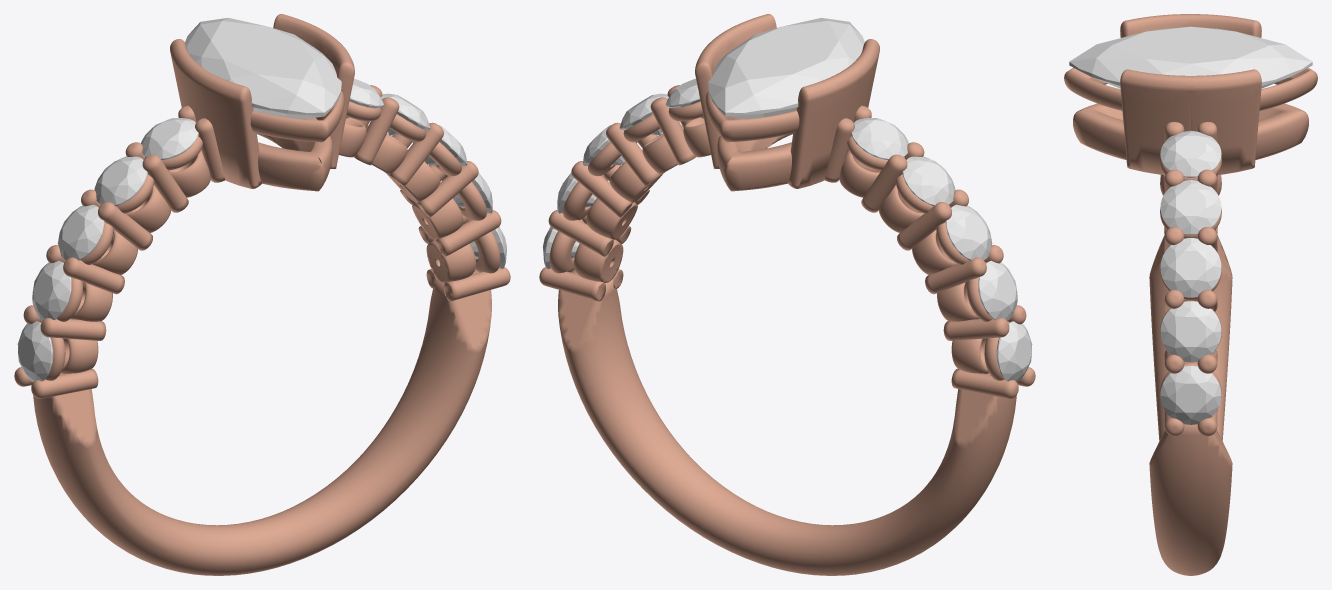
File: diamond-marquise-rosegold-halfmoonbezel-taperedband-7stone.glb
The picture shows the model from 3 angles, left to right: view 1: azimuth 30°, elevation 25°; view 2: azimuth 150°, elevation 25°; view 3: azimuth 270°, elevation 25°; orthographic projection.
Visible parts, largest first — view 1: metal.003, stone.002, side.022, side.023, side.021, side.024, side.020, side.028, side.029; view 2: metal.003, stone.002, side.022, side.023, side.021, side.024, side.020, side.028, side.029; view 3: metal.003, stone.002, side.026, side.027, side.025, side.028, side.029.
Boxes of the visible parts, bbox=[...] form: metal.003: bbox=[14, 14, 510, 575]; stone.002: bbox=[185, 17, 341, 119]; side.022: bbox=[57, 204, 104, 260]; side.023: bbox=[94, 156, 147, 206]; side.021: bbox=[32, 260, 71, 320]; side.024: bbox=[141, 118, 198, 159]; side.020: bbox=[17, 321, 53, 381]; side.028: bbox=[381, 93, 430, 135]; side.029: bbox=[346, 78, 384, 118]; metal.003: bbox=[539, 14, 1035, 575]; stone.002: bbox=[708, 17, 864, 119]; side.022: bbox=[945, 204, 992, 260]; side.023: bbox=[902, 156, 955, 206]; side.021: bbox=[978, 260, 1017, 320]; side.024: bbox=[851, 118, 908, 159]; side.020: bbox=[996, 321, 1032, 381]; side.028: bbox=[619, 93, 668, 135]; side.029: bbox=[665, 78, 703, 118]; metal.003: bbox=[1064, 14, 1317, 575]; stone.002: bbox=[1069, 26, 1312, 88]; side.026: bbox=[1160, 301, 1221, 362]; side.027: bbox=[1160, 238, 1221, 297]; side.025: bbox=[1160, 365, 1221, 424]; side.028: bbox=[1160, 180, 1221, 234]; side.029: bbox=[1160, 130, 1221, 177].
Bounding box in the file's own units: 22.1 × 22.93 × 10.4.
